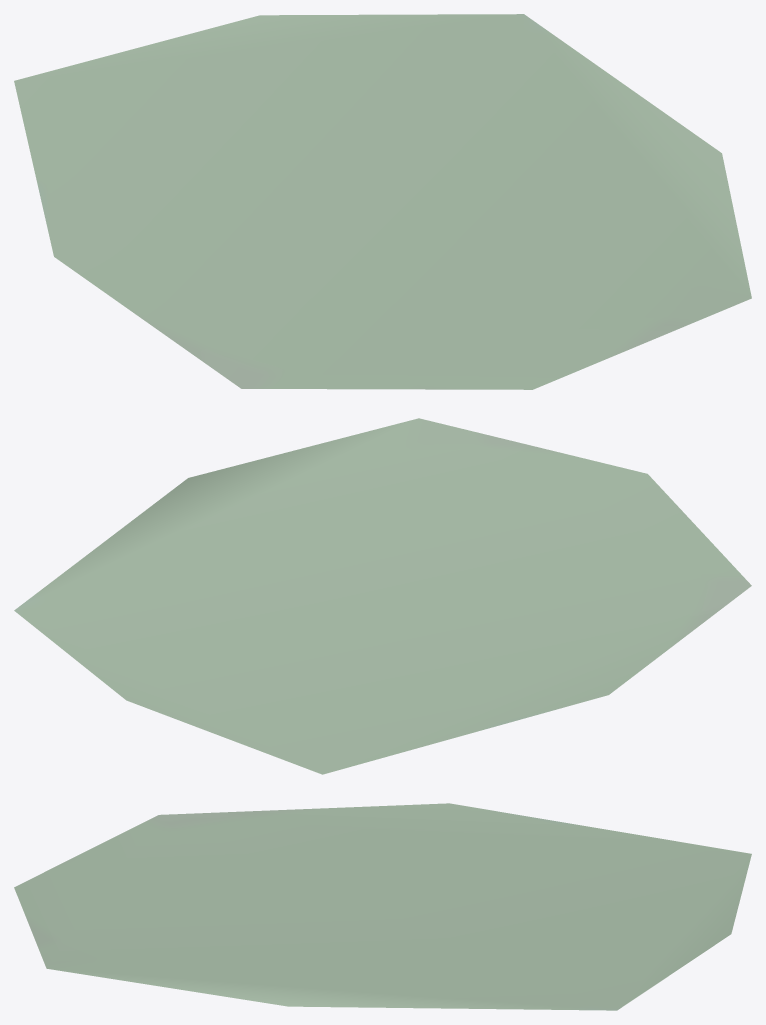
The model's file is TROLLHOLE02_HOLECAP139.fbx.
3 renders of one model, top to bottom at view 1: azimuth 30°, elevation 25°; view 2: azimuth 150°, elevation 25°; view 3: azimuth 270°, elevation 25°, orthographic. The views are drawn at different scales.
Parts seen in each view (by area): view 1: TROLLHOLE02_HOLECAP139; view 2: TROLLHOLE02_HOLECAP139; view 3: TROLLHOLE02_HOLECAP139.
Boxes of the visible parts, <box> form: TROLLHOLE02_HOLECAP139: <box>14,14,751,389</box>; TROLLHOLE02_HOLECAP139: <box>14,418,751,774</box>; TROLLHOLE02_HOLECAP139: <box>14,803,751,1010</box>.
Bounding box in the file's own units: 22422 × 1588 × 30105.
1 material, 1 textured.
